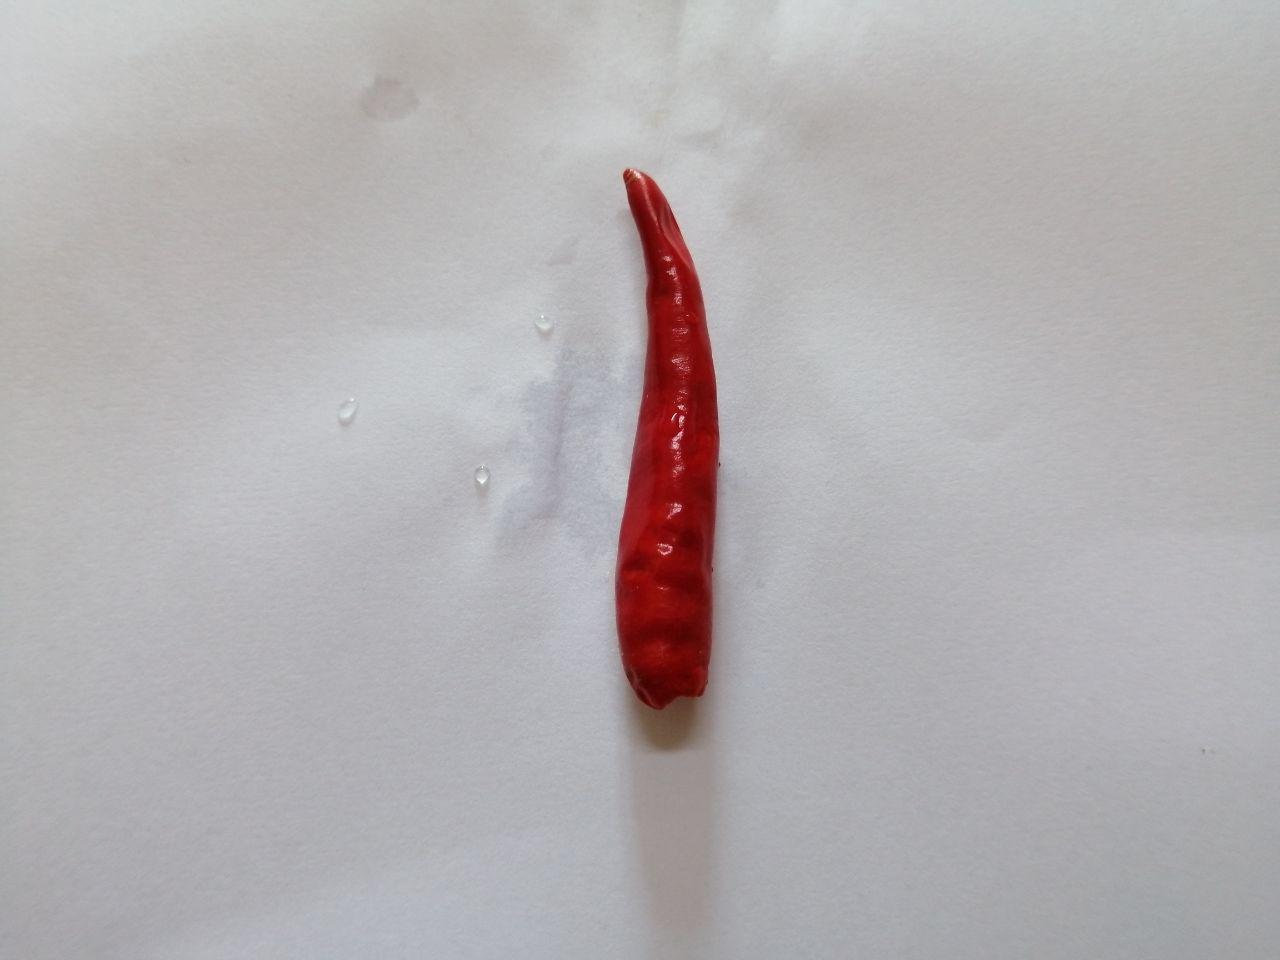lada merah: (591, 153, 756, 730)
